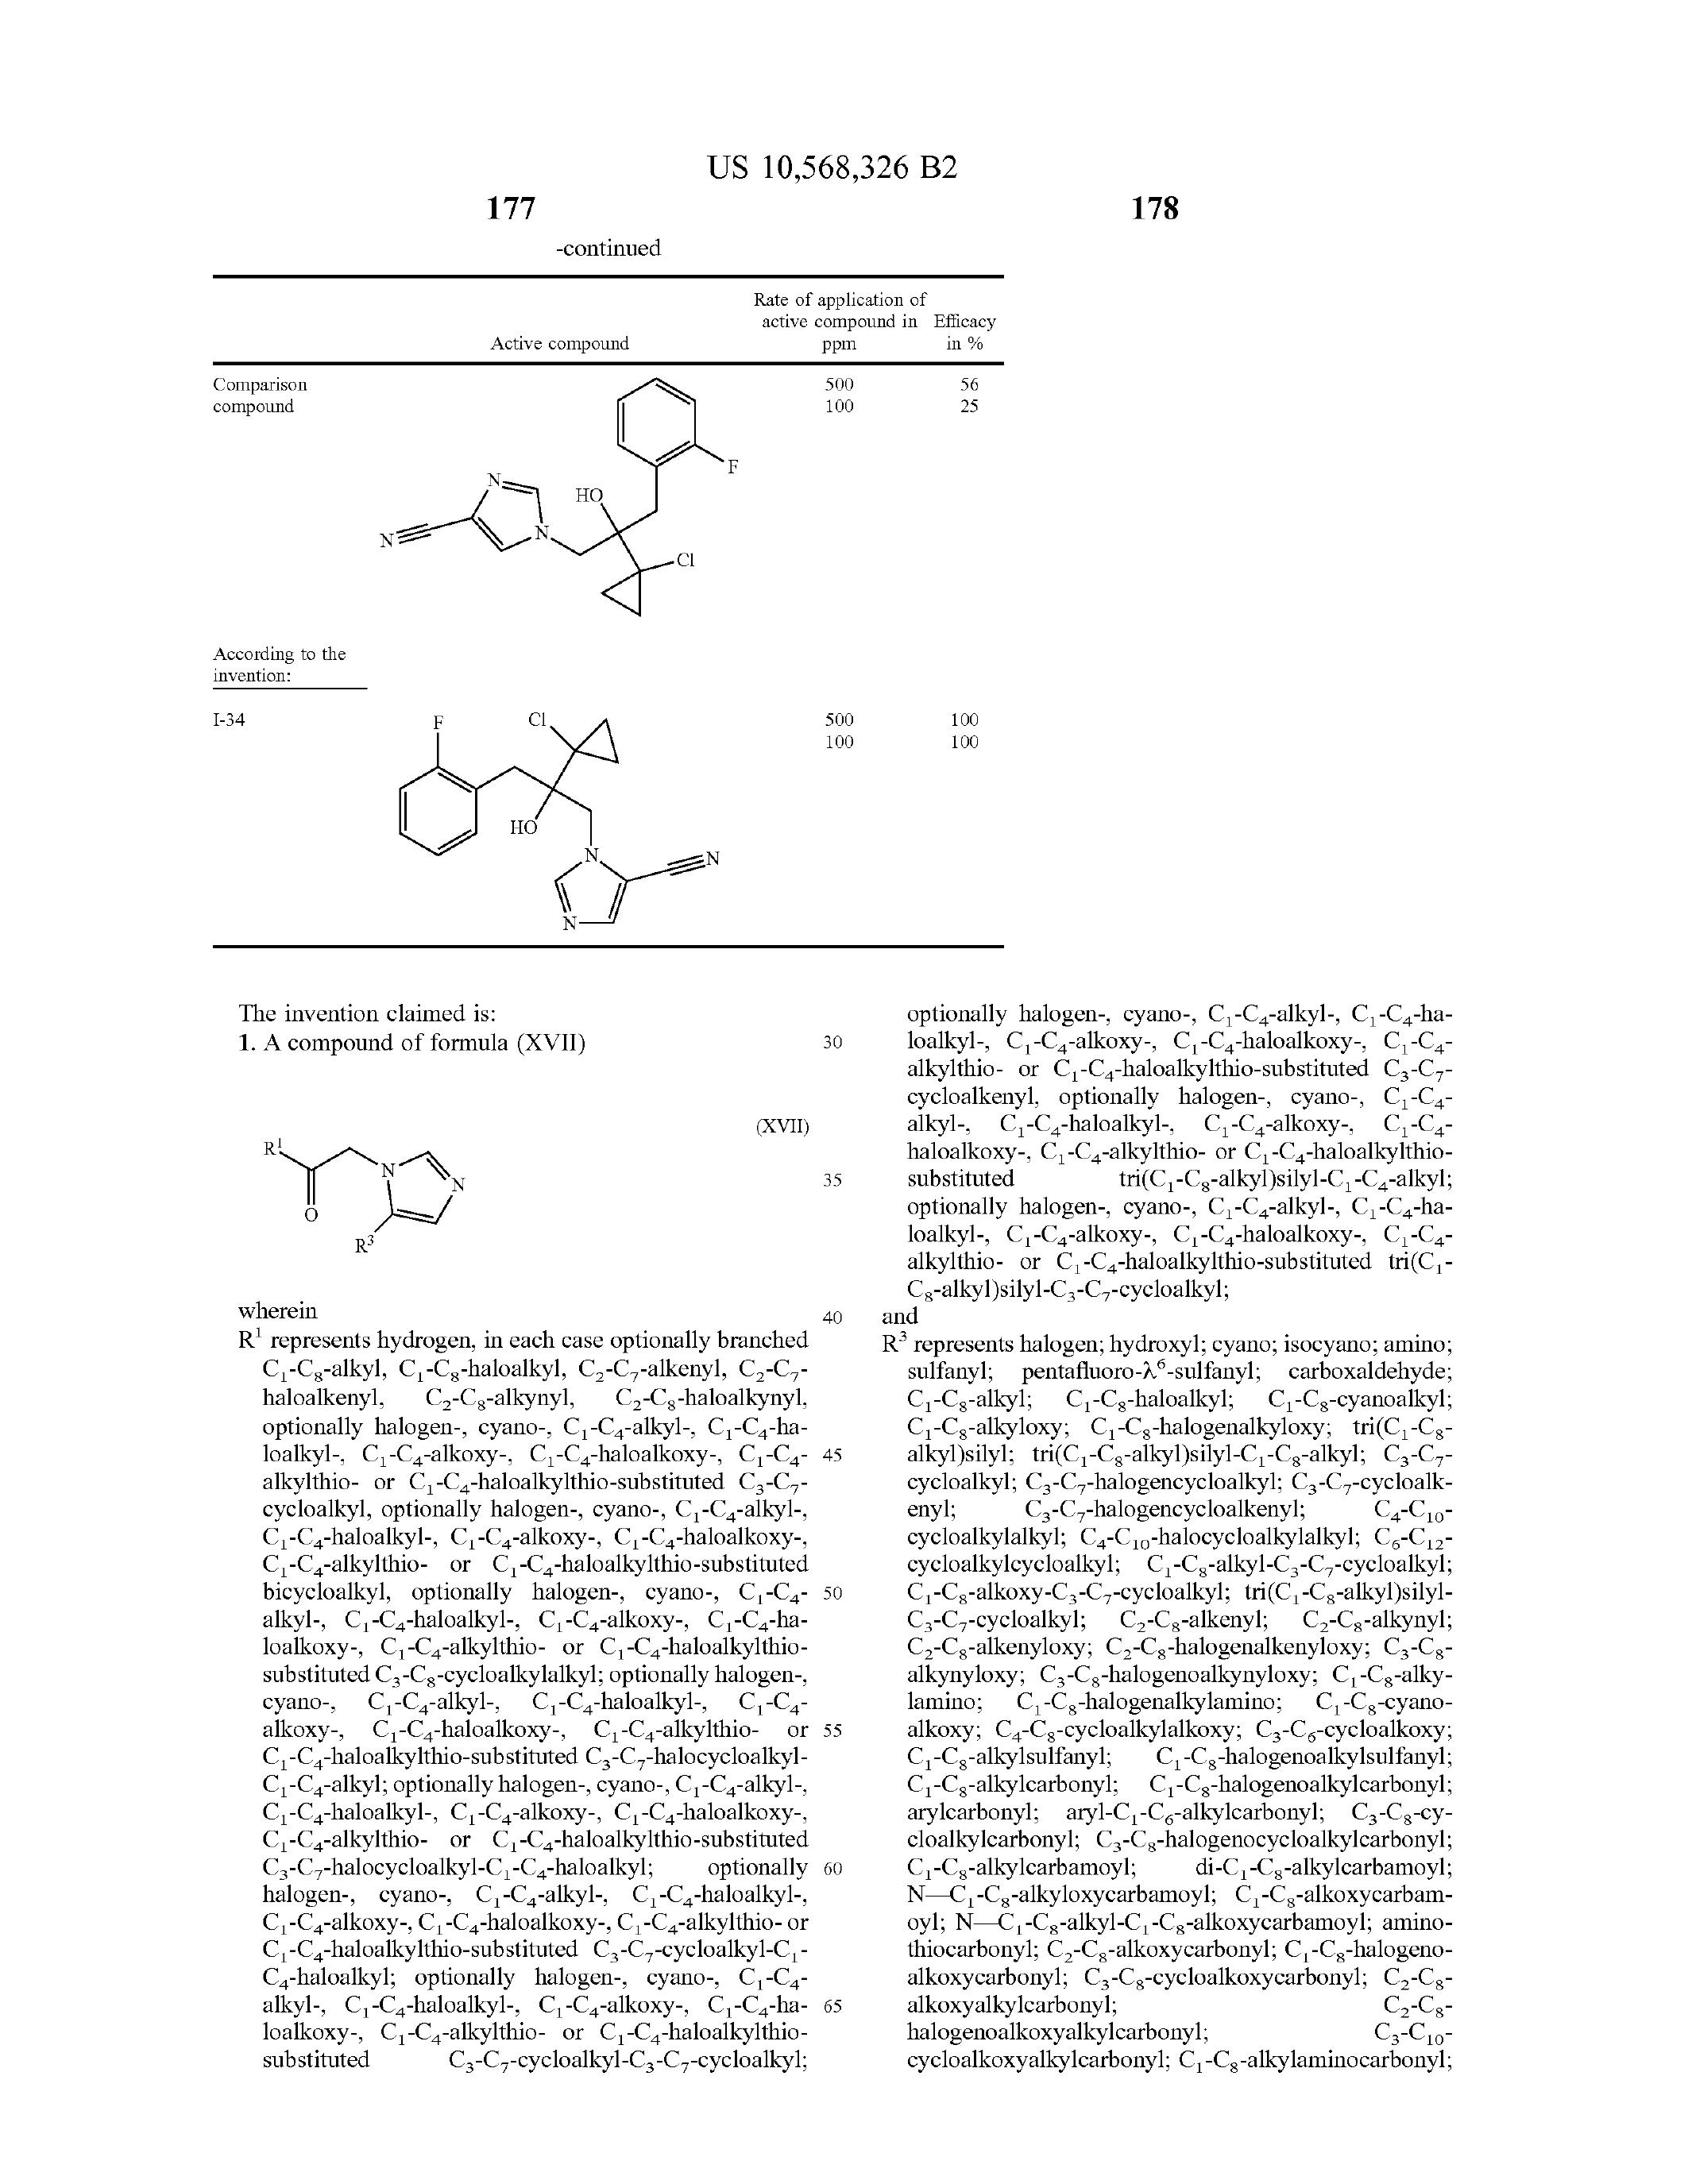markush-structures: (252, 1103, 481, 1262)
relevant-structures: (362, 383, 773, 620), (353, 695, 729, 954)
